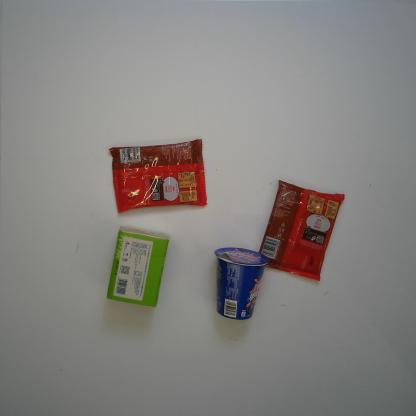Dessert: (257, 180, 346, 282), (109, 139, 208, 214), (213, 246, 270, 320)
Tissue: (106, 226, 170, 309)
